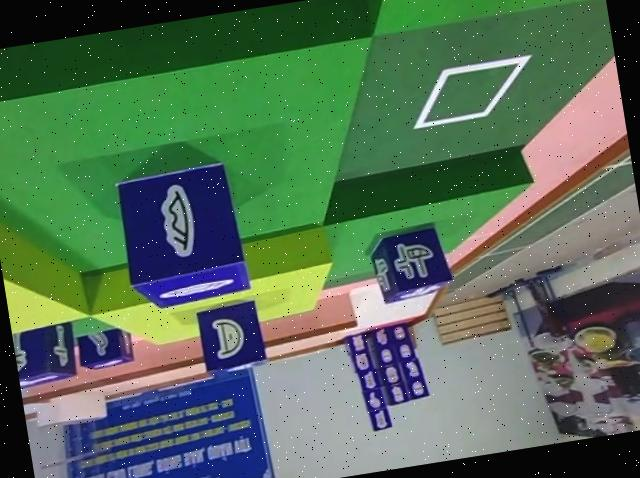R2 Real Blue: (110, 159, 250, 313), (367, 222, 455, 304), (196, 298, 272, 377), (10, 318, 80, 388), (72, 323, 134, 370)
